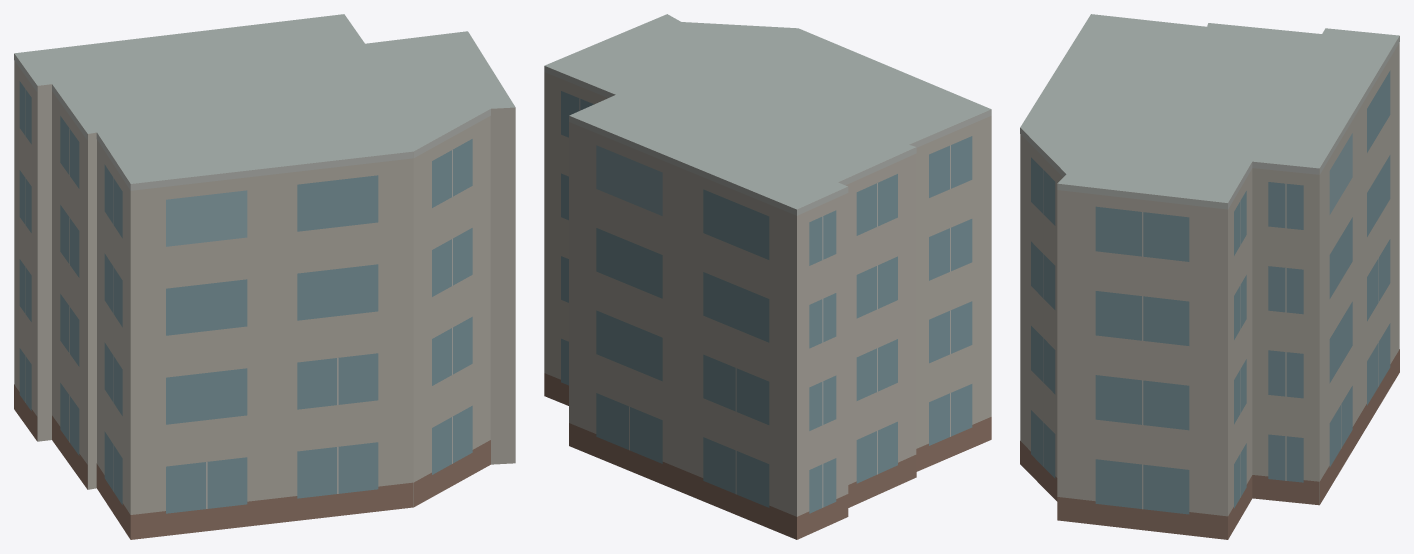
Rendered from survey-upis-32614679.glb.
3 views of the same model, side by side, from view 1: azimuth 30°, elevation 25°; view 2: azimuth 150°, elevation 25°; view 3: azimuth 270°, elevation 25° (orthographic). The views are drawn at different scales.
Visible parts, largest first — view 1: survey-upis-32614679.tmp; view 2: survey-upis-32614679.tmp; view 3: survey-upis-32614679.tmp.
Part boxes in pixels (x1,y1,x2,y2): survey-upis-32614679.tmp: [14, 14, 515, 539]; survey-upis-32614679.tmp: [544, 14, 991, 539]; survey-upis-32614679.tmp: [1020, 14, 1399, 539].
Size of the model in its own units: 15.43 by 12.8 by 13.09.
